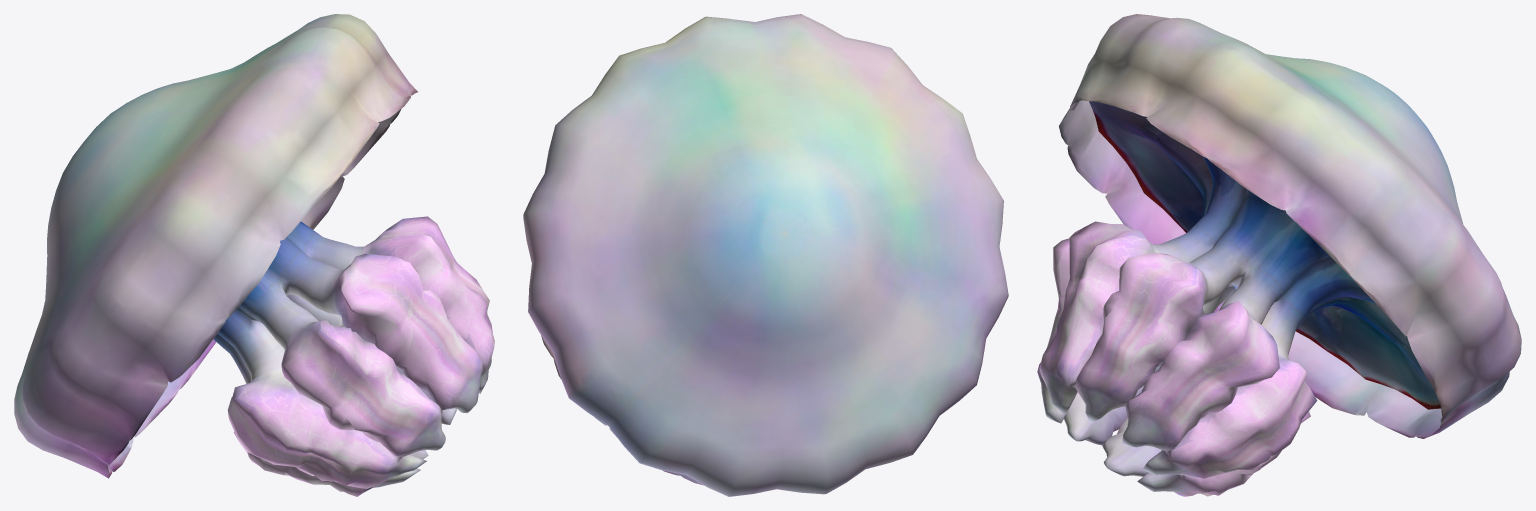
File: MeusaTest.glb
The picture shows the model from 3 angles, left to right: view 1: azimuth 30°, elevation 25°; view 2: azimuth 150°, elevation 25°; view 3: azimuth 270°, elevation 25°; orthographic projection. The views are drawn at different scales.
Parts seen in each view (by area): view 1: MorphMainGroup; view 2: MorphMainGroup; view 3: MorphMainGroup.
Boxes of the visible parts, left/top/right/bottom form: MorphMainGroup: left=14, top=14, right=494, bottom=496; MorphMainGroup: left=523, top=14, right=1008, bottom=496; MorphMainGroup: left=1037, top=14, right=1521, bottom=496.
Size of the model in its own units: 0.6 by 0.5997 by 0.6014.
Materials: 1 (1 with a texture image).
